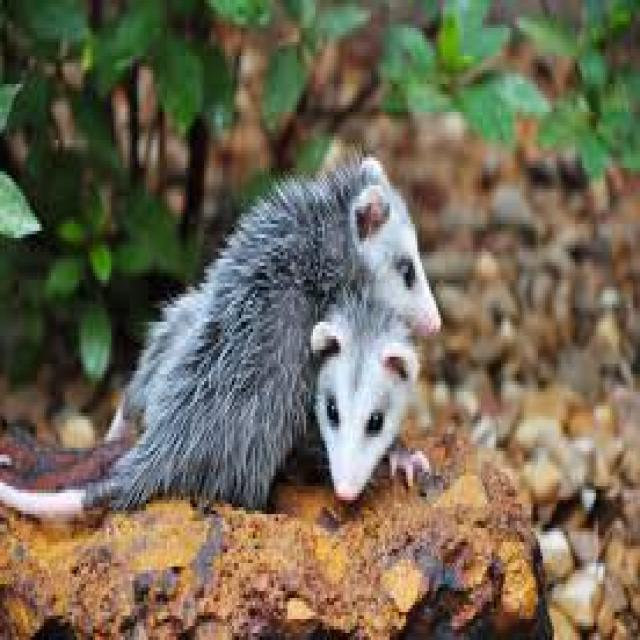Possum: (4, 127, 441, 531), (304, 284, 425, 512)
